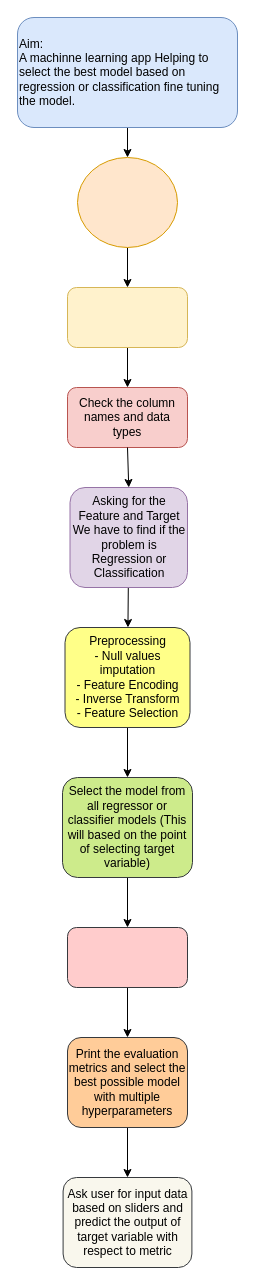
Some shapes in this 255 by 1285 pixel diagram are drawn without their labels. Here are the shapes that lost their labels. From the top down, the centre of each, then its label:
point 127,202: Load the Data or Upload the data
point 127,317: Example Data button
point 127,957: Add the evaluation metrics on the problem
